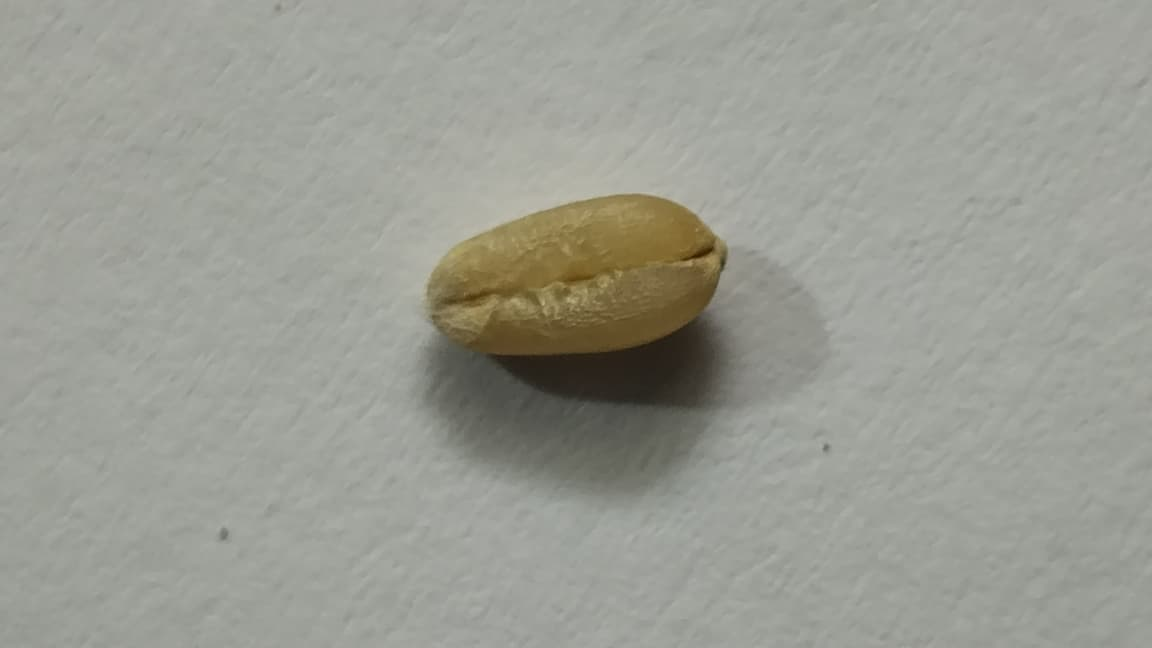healthy: (426, 193, 728, 354)
